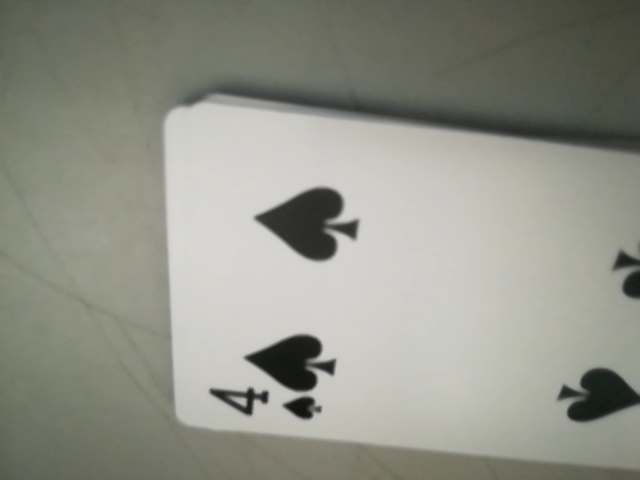ht 4: (196, 381, 333, 431)
